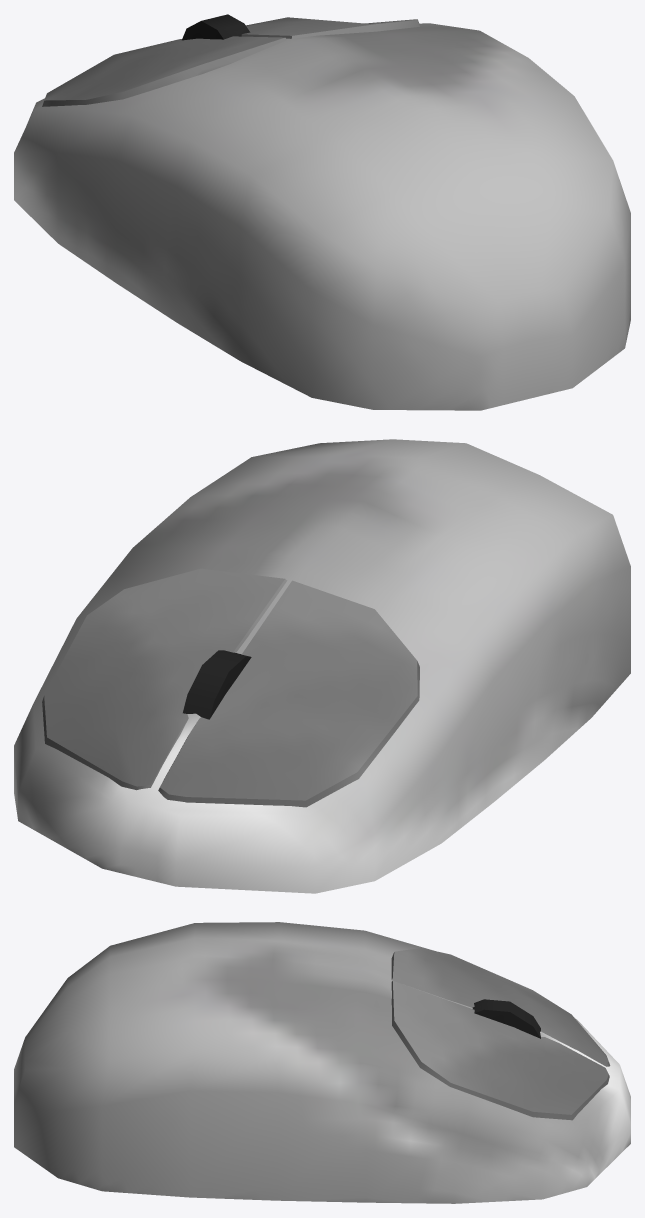
Rendered from Mouse_Asset.fbx.
The picture shows the model from 3 angles, top to bottom: view 1: azimuth 30°, elevation 25°; view 2: azimuth 150°, elevation 25°; view 3: azimuth 270°, elevation 25°; orthographic projection. The views are drawn at different scales.
Parts seen in each view (by area): view 1: Mouse; view 2: Mouse; view 3: Mouse.
Part boxes in pixels (x1=…): Mouse: x1=14, y1=14, x2=630, y2=410; Mouse: x1=14, y1=439, x2=630, y2=893; Mouse: x1=14, y1=922, x2=630, y2=1203.
Size of the model in its own units: 8 by 14 by 4.3.
